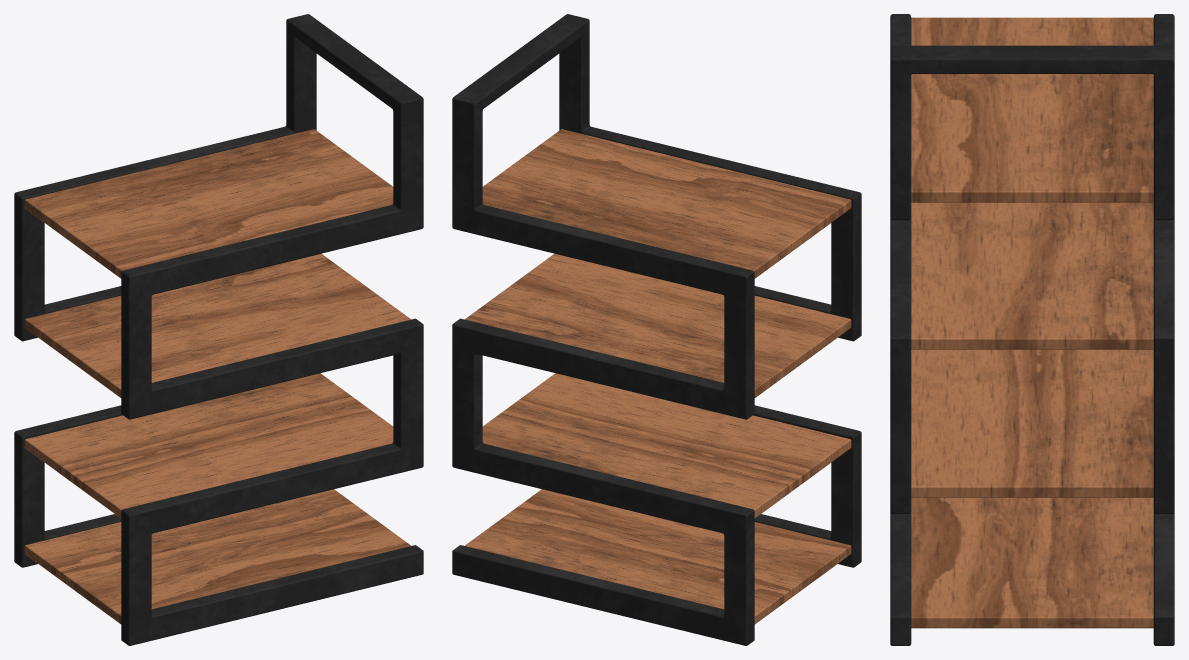
Rendered from ShoeRack.glb.
The picture shows the model from 3 angles, left to right: view 1: azimuth 30°, elevation 25°; view 2: azimuth 150°, elevation 25°; view 3: azimuth 270°, elevation 25°; orthographic projection. The views are drawn at different scales.
Visible parts, largest first — view 1: ShoeRack; view 2: ShoeRack; view 3: ShoeRack.
Boxes of the visible parts, left/top/right/bottom form: ShoeRack: left=14, top=14, right=423, bottom=645; ShoeRack: left=452, top=14, right=861, bottom=645; ShoeRack: left=890, top=14, right=1174, bottom=645.
Size of the model in its own units: 0.5494 by 0.8481 by 0.3718.
1 material, 1 textured.
